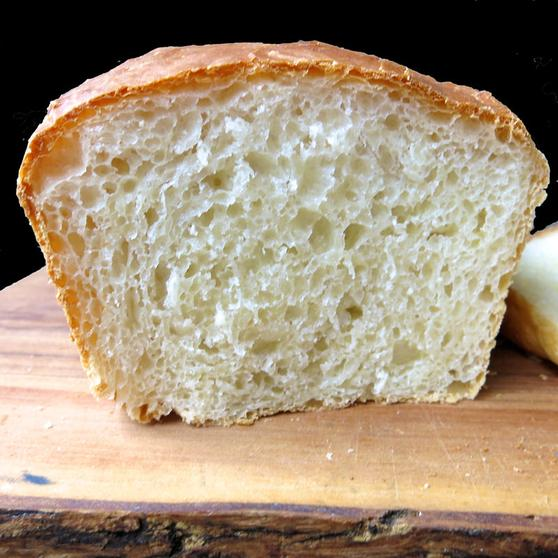white_bread: (15, 36, 548, 412)
